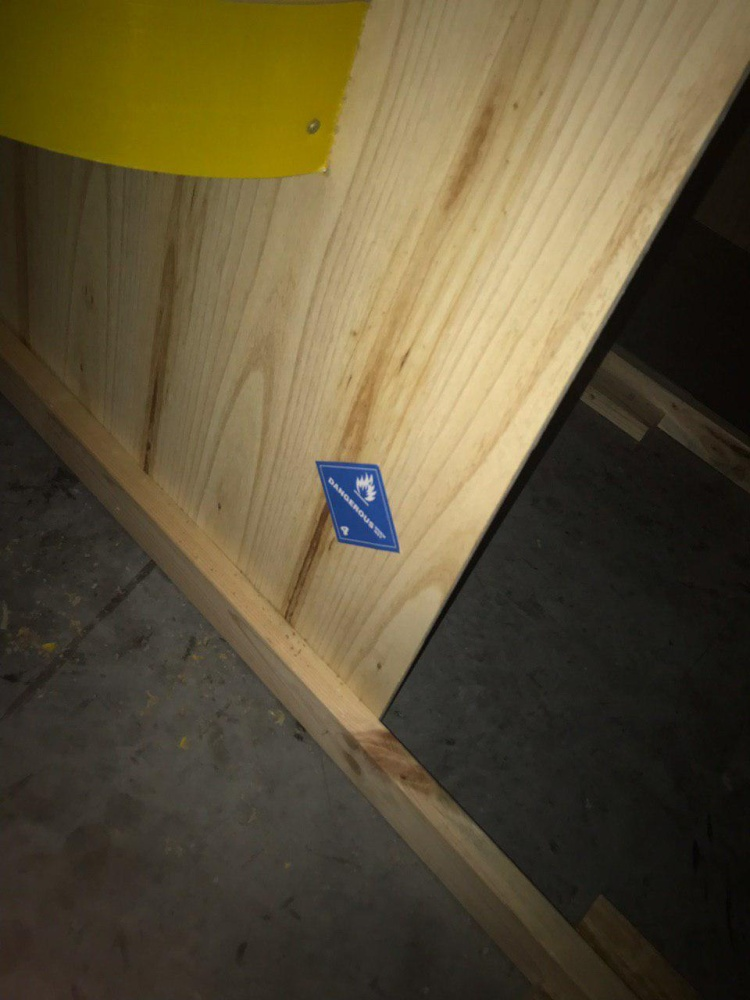Dangerous when wet: (316, 461, 399, 552)
